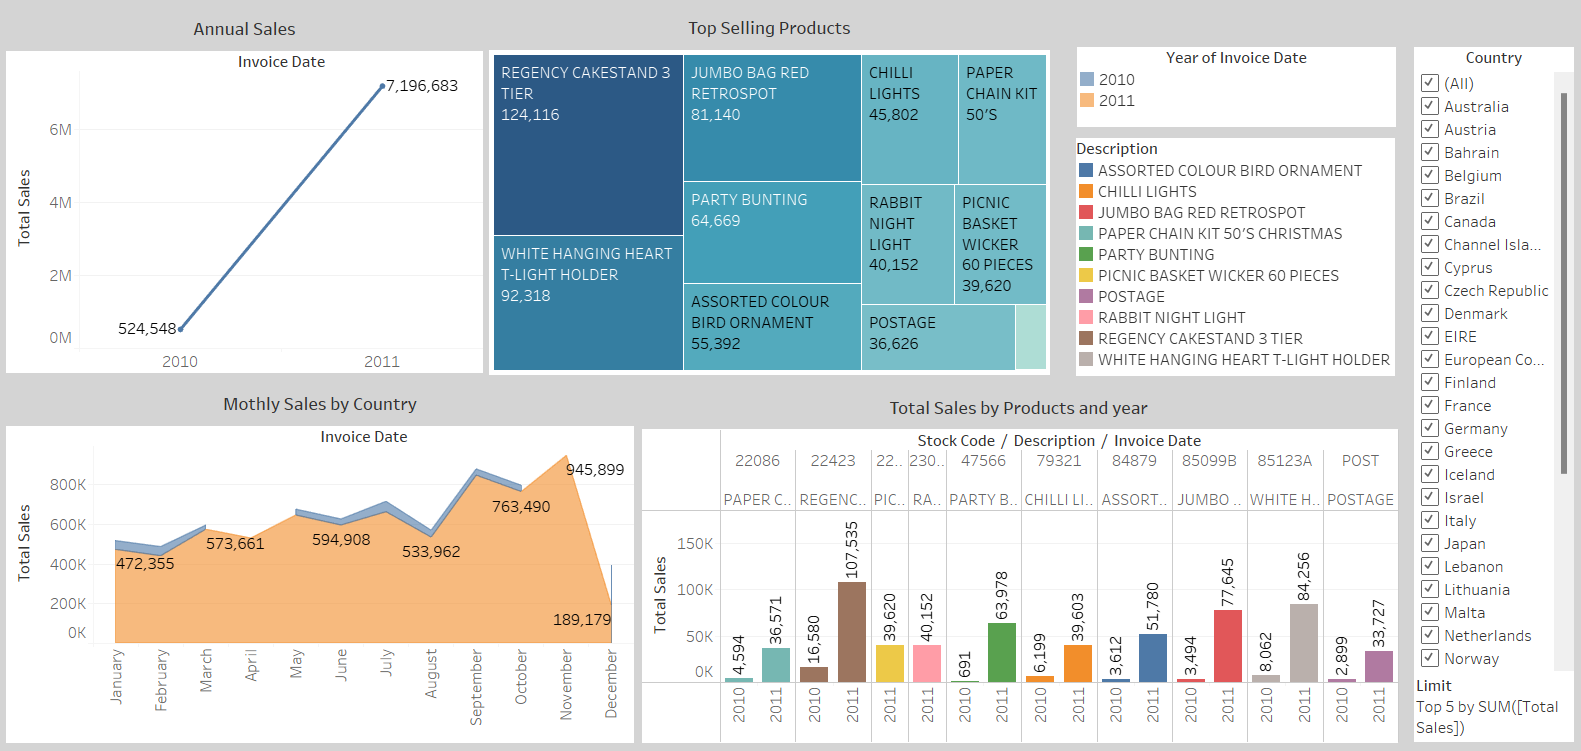

This screenshot's page, from the dashboard's own definition file:
{"tool":"tableau","page":{"name":"Sales Dashboard 2","canvas":[1600,800],"ordinal":1},"visuals":[{"type":"worksheet","title":"Top Selling Products","mark":"Automatic","box":[494,13,561,364]},{"type":"worksheet","title":"Annual Sales","mark":"Line","rows":["Calculation_727894350623166465"],"cols":["InvoiceDate"],"box":[11,14,477,361]},{"type":"legend","title":"Mothly Sales by Country","param":"[federated.1td83ee1odnfs61gbu48m1v0lfze].[yr:InvoiceDate:ok]","box":[1082,49,319,80]},{"type":"filter","title":"Mothly Sales by Country","param":"[federated.1td83ee1odnfs61gbu48m1v0lfze].[none:Country:nk]","box":[1419,49,160,695]},{"type":"legend","title":"Total Sales by Products and year ","param":"[federated.1td83ee1odnfs61gbu48m1v0lfze].[none:Description:nk]","box":[1081,140,319,238]},{"type":"worksheet","title":"Mothly Sales by Country","mark":"Area","rows":["Calculation_727894350623166465"],"cols":["InvoiceDate"],"box":[11,389,628,356]},{"type":"worksheet","title":"Total Sales by Products and year ","mark":"Bar","rows":["Calculation_727894350623166465"],"cols":["StockCode","Description","InvoiceDate"],"box":[647,393,757,352]}]}

Visuals, with their boxes on the page's 1600x800 design canvas (x1, y1, x2, y2). These are canvas units, not pixel positions in the 1581x751 screenshot, which may show the page scaled, cropped or inside an application window:
"Top Selling Products" worksheet: (x1=494, y1=13, x2=1055, y2=377)
"Annual Sales" worksheet (Line marks): (x1=11, y1=14, x2=488, y2=375)
"Mothly Sales by Country" legend: (x1=1082, y1=49, x2=1401, y2=129)
"Mothly Sales by Country" filter: (x1=1419, y1=49, x2=1579, y2=744)
"Total Sales by Products and year " legend: (x1=1081, y1=140, x2=1400, y2=378)
"Mothly Sales by Country" worksheet (Area marks): (x1=11, y1=389, x2=639, y2=745)
"Total Sales by Products and year " worksheet (Bar marks): (x1=647, y1=393, x2=1404, y2=745)
